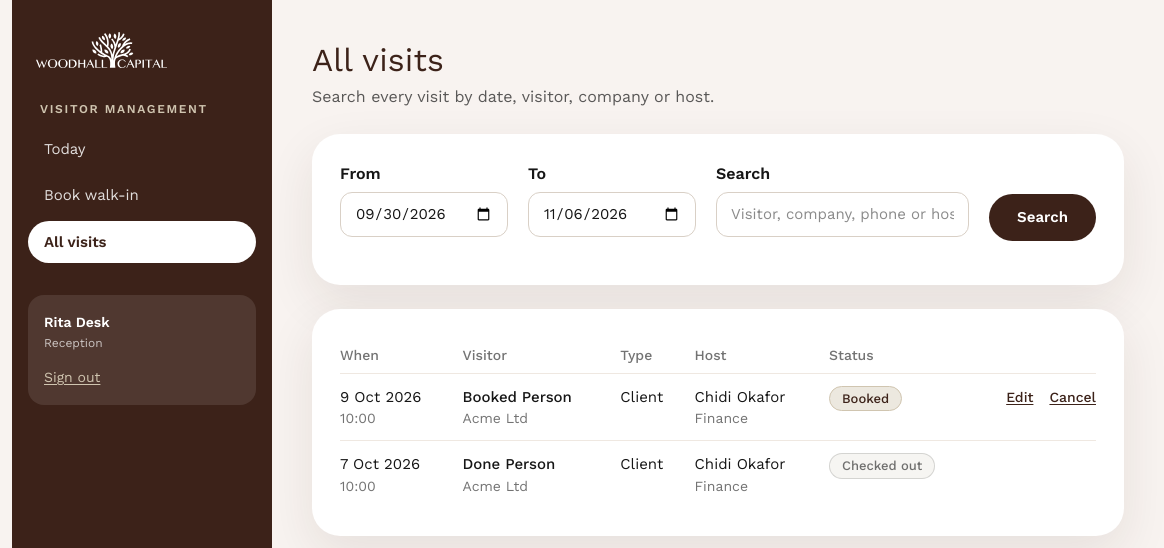
Test case: All visits loads the default range and searches on submit
The image size is (1164, 548).
Expected: the text "Booked Person" is shown, [462, 388, 572, 406]
In the field labelled "Search": [843, 214] box [716, 192, 969, 236], type "done"
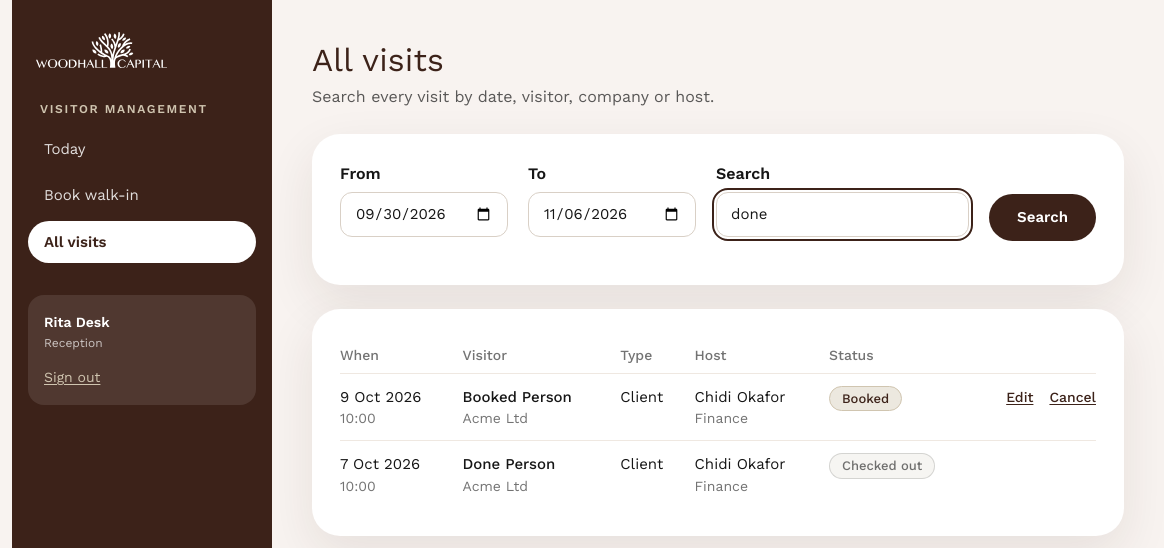
Click the button "Search": [1043, 217] box [989, 194, 1096, 240]
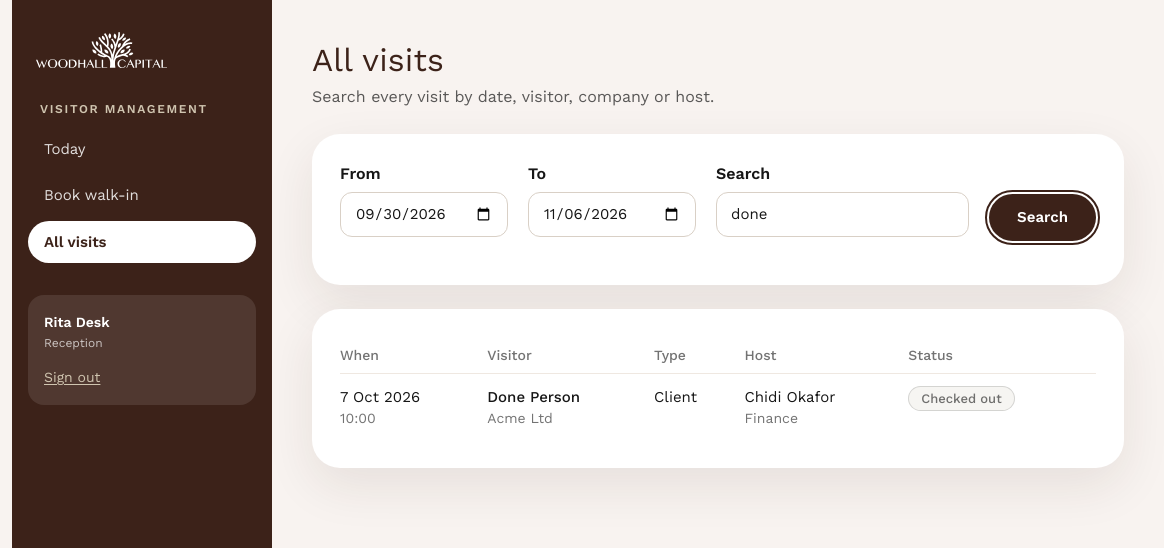
Expected: the text "Done Person" is shown, [487, 388, 580, 406]
Expected: the text "Booked Person" is gone
